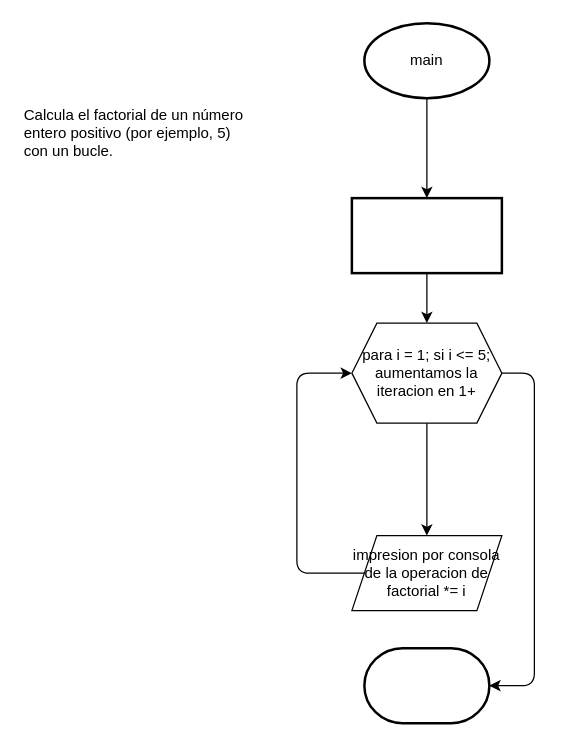
Some shapes in this 566 by 745 pixel diagram are drawn without their labels. Each missing label, with the centre of its shape:
"fin" goes at point 426,685.
"int factorial = 1" goes at point 426,235.
